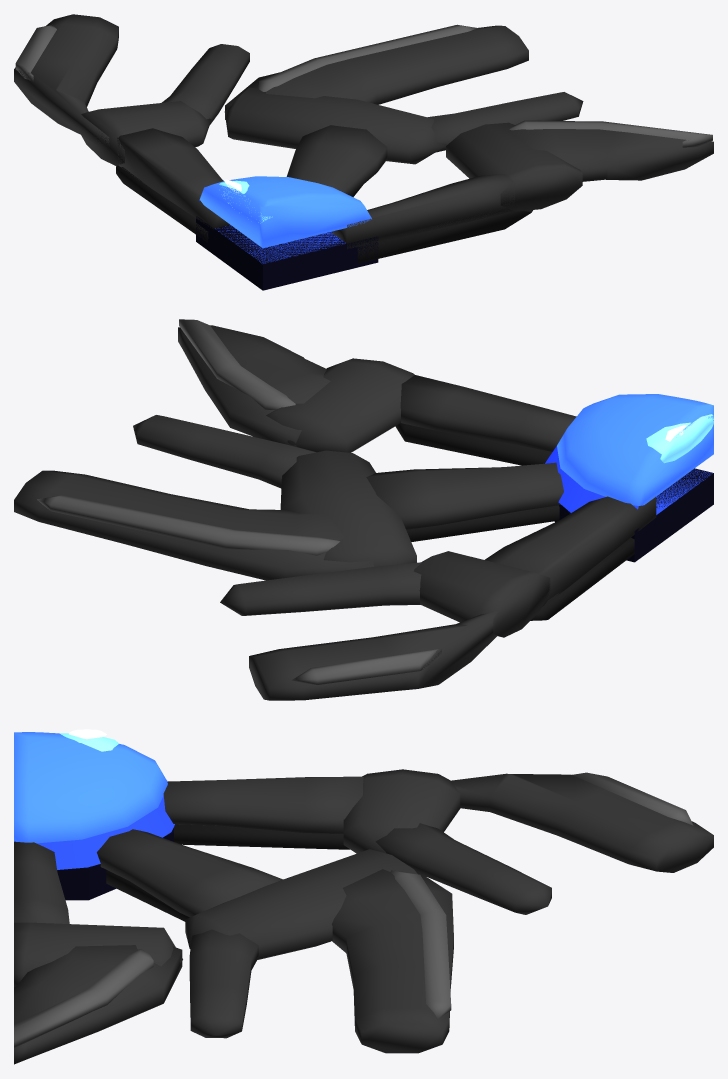
File: newsh-hash-159-f3.glb
3 renders of one model, top to bottom at view 1: azimuth 30°, elevation 25°; view 2: azimuth 150°, elevation 25°; view 3: azimuth 270°, elevation 25°, orthographic. The views are drawn at different scales.
Visible parts, largest first — view 1: newsh-hash-159-f3; view 2: newsh-hash-159-f3; view 3: newsh-hash-159-f3.
Boxes of the visible parts, box(x1,y1,x2,y2) form: newsh-hash-159-f3: box(14, 14, 713, 290); newsh-hash-159-f3: box(14, 319, 713, 700); newsh-hash-159-f3: box(14, 729, 713, 1064).
Bounding box in the file's own units: 1.79 × 0.3254 × 2.
